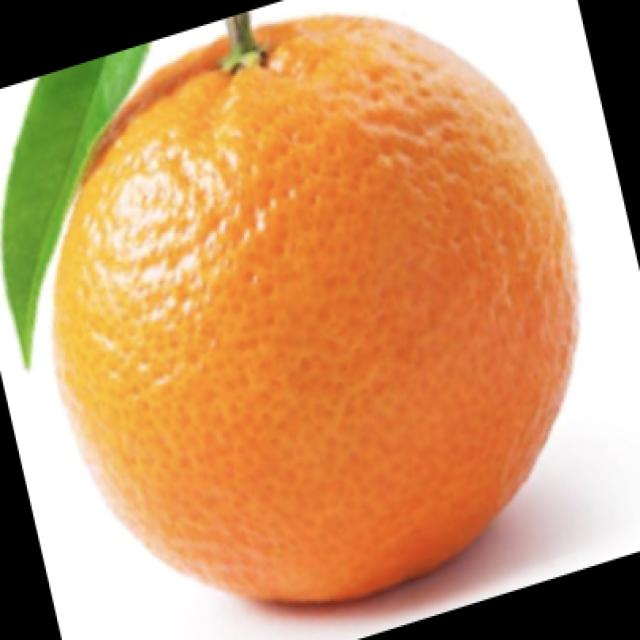matang: (70, 12, 574, 592)
